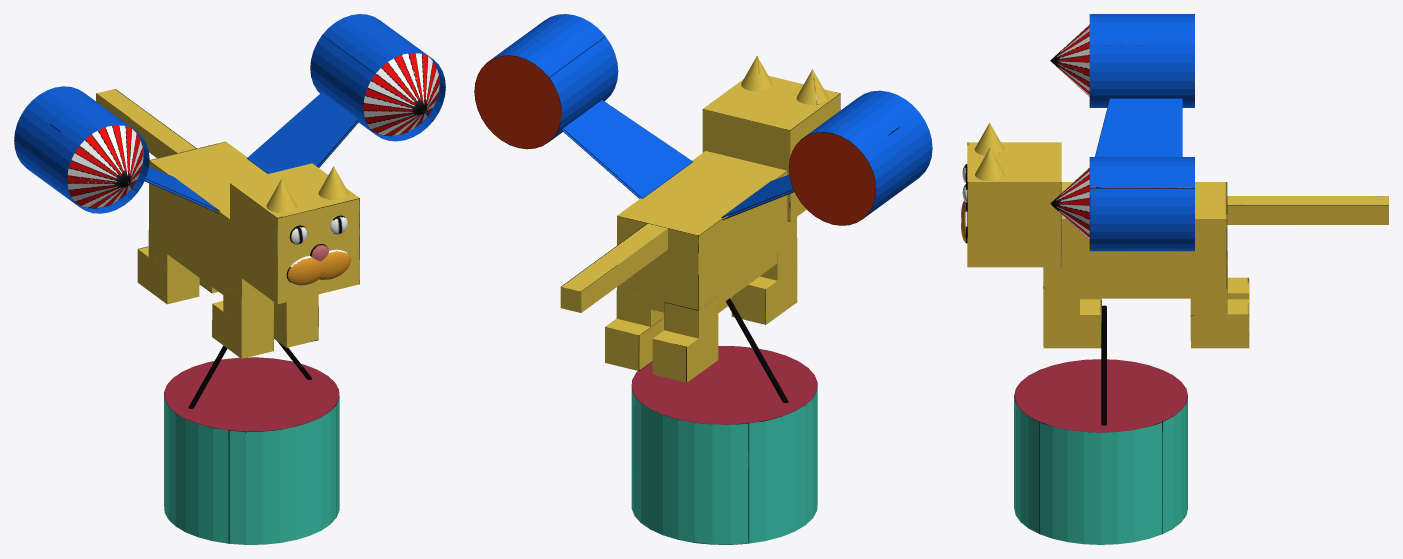
Rendered from CargoRoboCat.obj.
3 views of the same model, side by side, from view 1: azimuth 30°, elevation 25°; view 2: azimuth 150°, elevation 25°; view 3: azimuth 270°, elevation 25° (orthographic). The views are drawn at different scales.
Visible parts, largest first — view 1: Cone.002; view 2: Cone.002; view 3: Cone.002.
Boxes of the visible parts, <box> form: Cone.002: <box>14,14,445,544</box>; Cone.002: <box>474,14,932,544</box>; Cone.002: <box>961,14,1388,544</box>.
Bounding box in the file's own units: 9.19 × 9.79 × 9.09.
